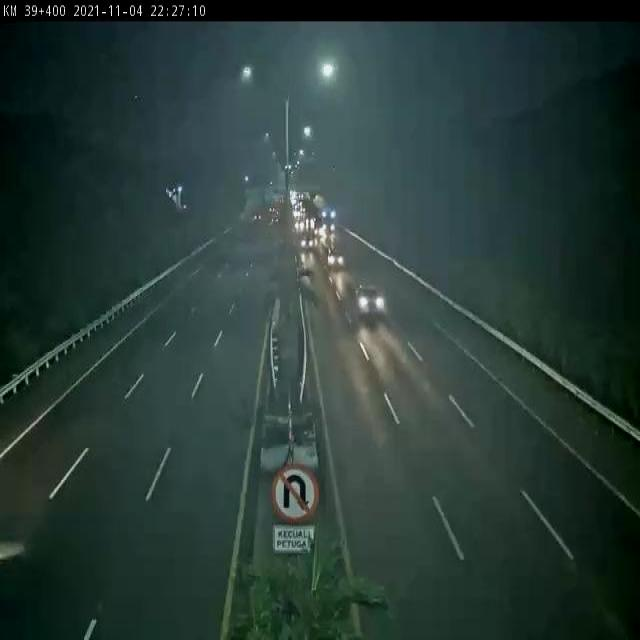Car: (355, 284, 385, 322), (328, 251, 345, 270), (299, 236, 314, 249)
